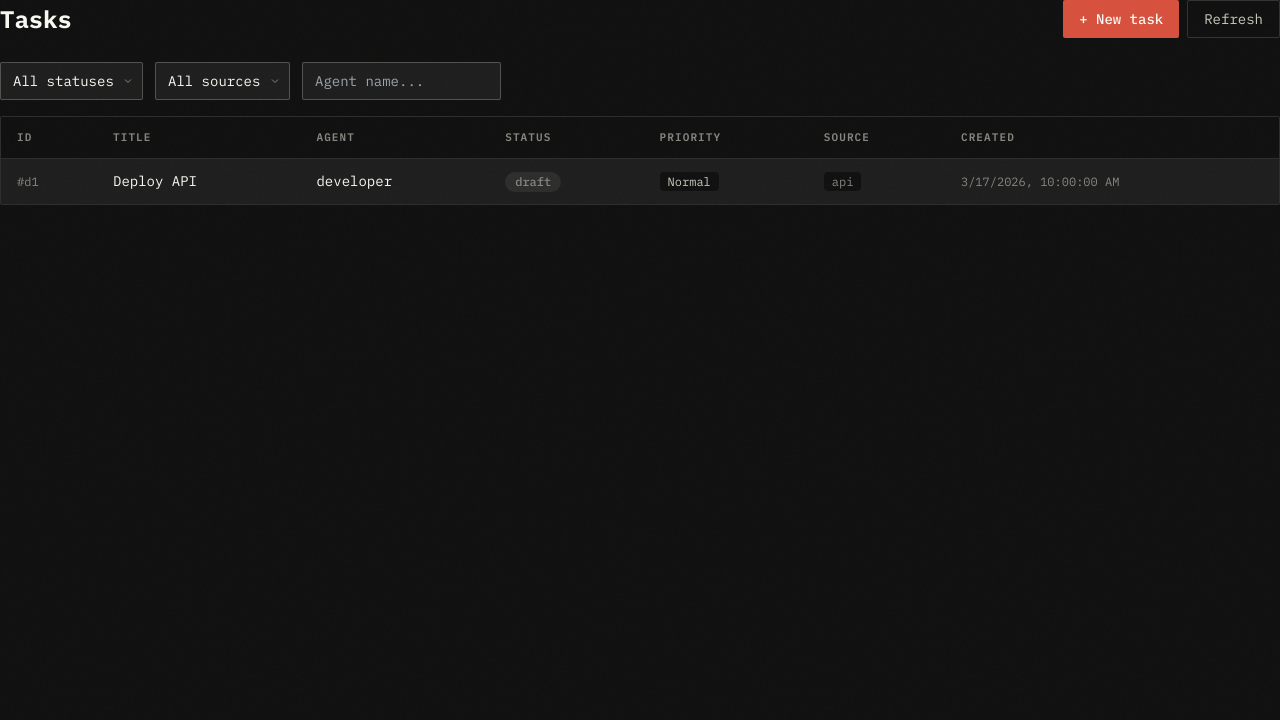
TasksPage › surfaces action errors in a banner
What coordinates should you click on to do the following:
click the text "Deploy API"
I would click on:
 (155, 181)
Its box is [113,172,197,190].
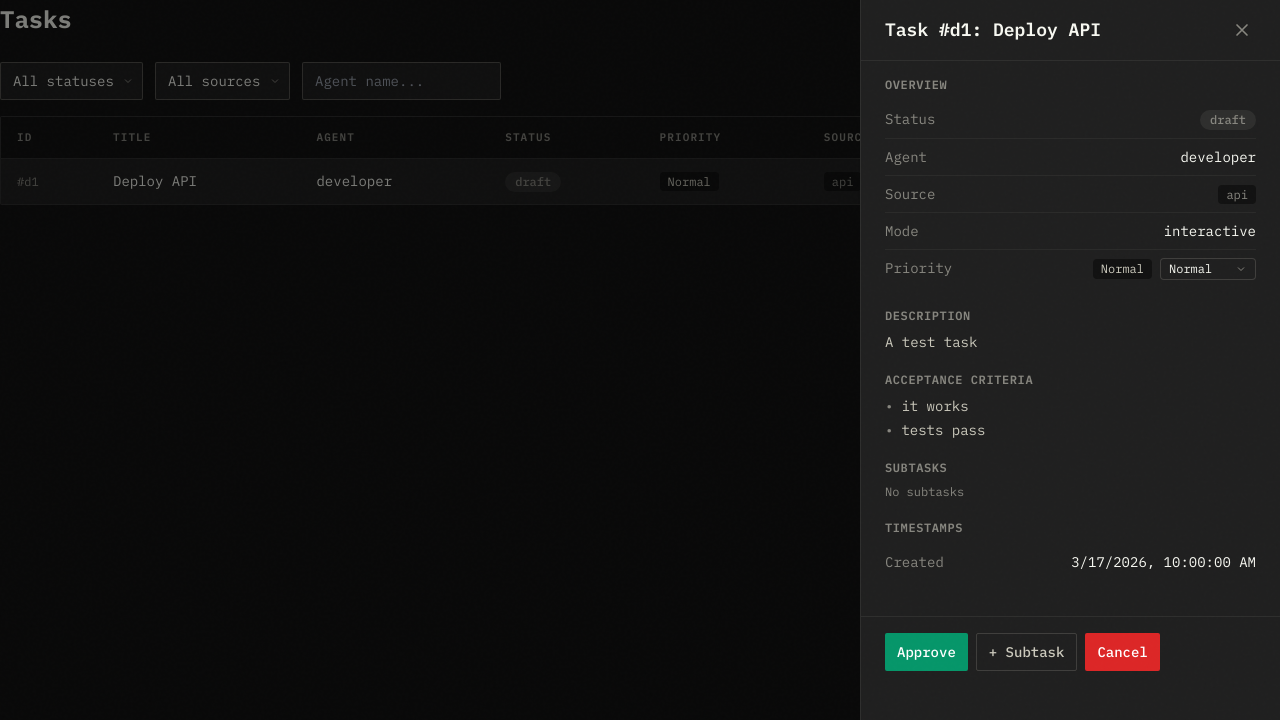
What coordinates should you click on to do the following:
click the button "Approve"
I would click on:
 (926, 652)
Its box is [885,633,968,671].
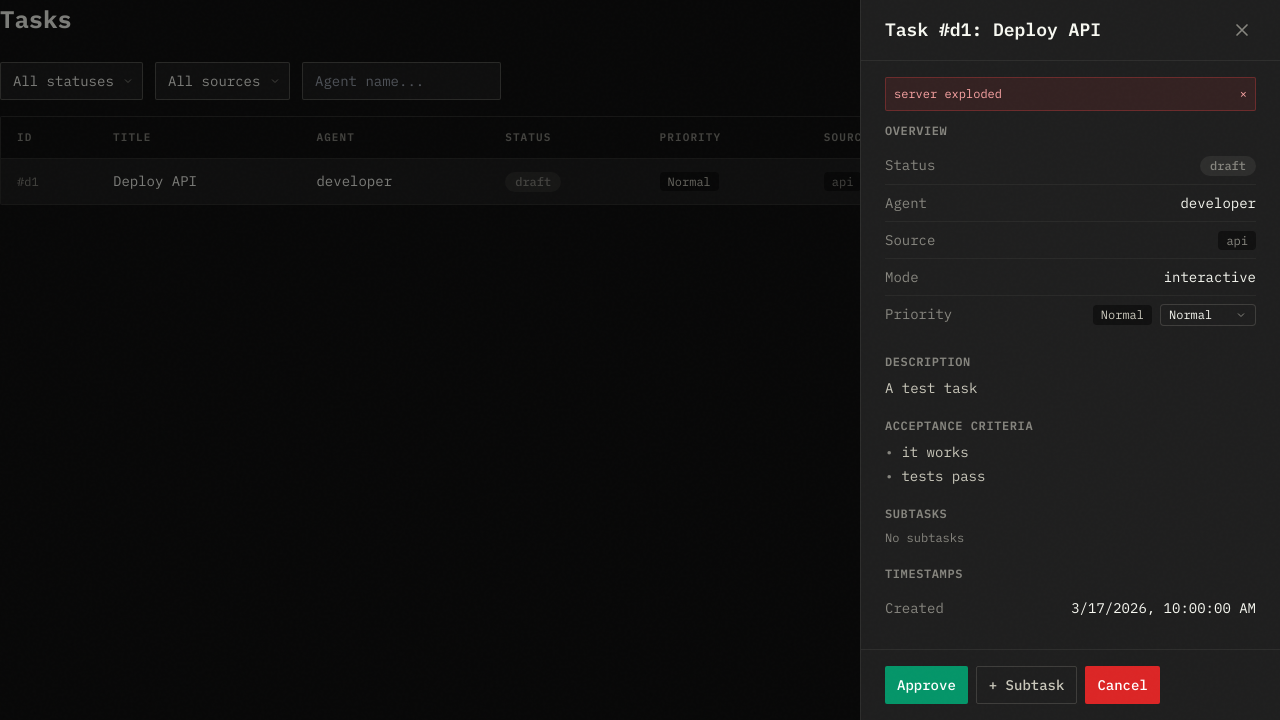
Check: the button "server exploded ×" is shown, box [885,77,1256,111]
